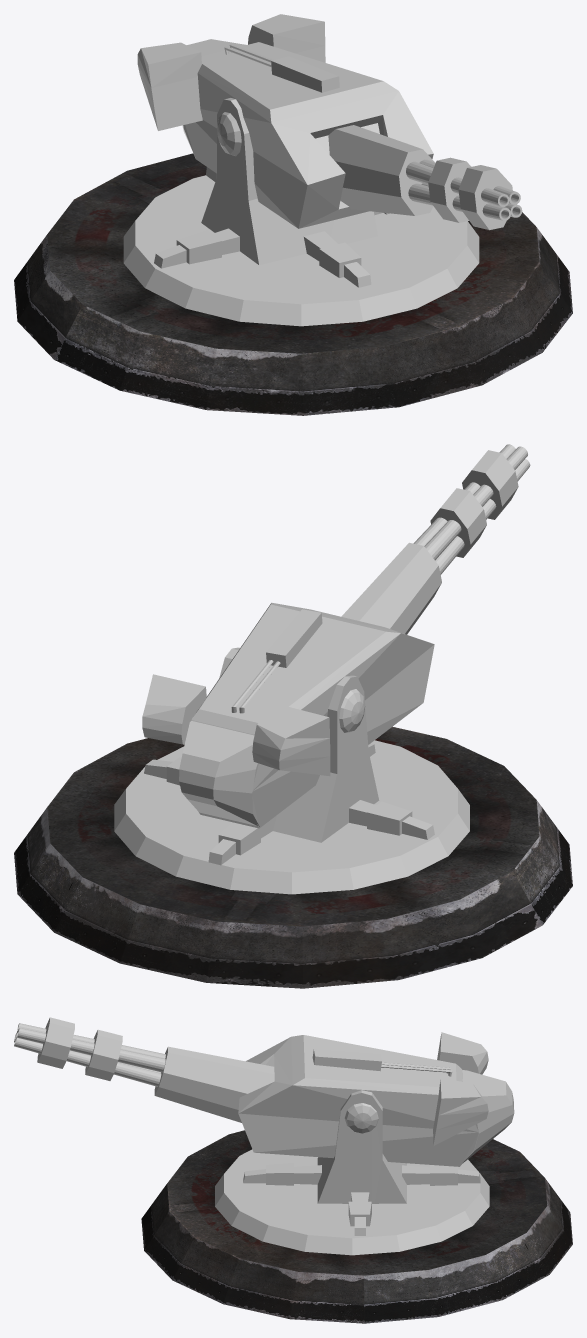
The model's file is canon_plasma.dae.
The picture shows the model from 3 angles, top to bottom: view 1: azimuth 30°, elevation 25°; view 2: azimuth 150°, elevation 25°; view 3: azimuth 270°, elevation 25°; orthographic projection. The views are drawn at different scales.
Parts seen in each view (by area): view 1: Mesh_Object, Mesh_Object_2, Mesh_Object_3, Mesh_Object_4; view 2: Mesh_Object, Mesh_Object_3, Mesh_Object_2, Mesh_Object_4; view 3: Mesh_Object, Mesh_Object_3, Mesh_Object_2, Mesh_Object_4.
Boxes of the visible parts, <box> form: Mesh_Object: <box>14,153,572,415</box>; Mesh_Object_2: <box>123,98,479,326</box>; Mesh_Object_3: <box>137,14,433,228</box>; Mesh_Object_4: <box>328,125,522,230</box>; Mesh_Object: <box>14,726,572,988</box>; Mesh_Object_3: <box>142,602,434,828</box>; Mesh_Object_2: <box>114,647,469,894</box>; Mesh_Object_4: <box>341,444,530,634</box>; Mesh_Object: <box>141,1130,572,1323</box>; Mesh_Object_3: <box>238,1032,514,1166</box>; Mesh_Object_2: <box>215,1090,489,1255</box>; Mesh_Object_4: <box>14,1017,274,1122</box>.
Size of the model in its own units: 2.35 by 1.26 by 3.02.
